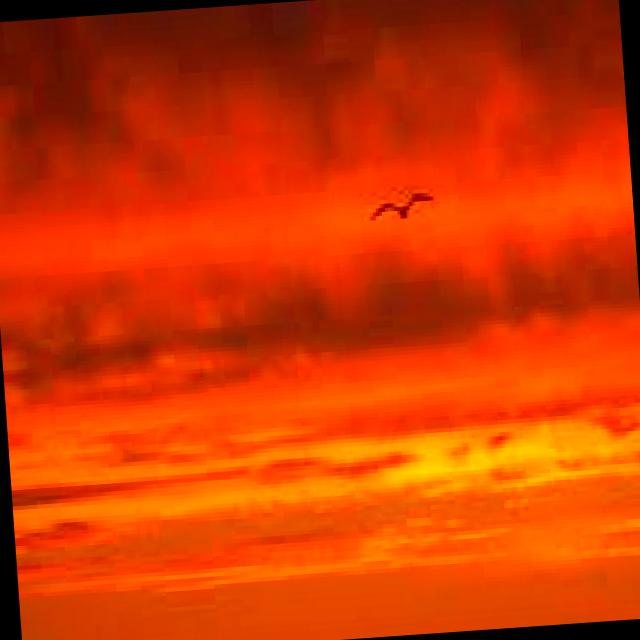bird: (363, 183, 436, 230)
